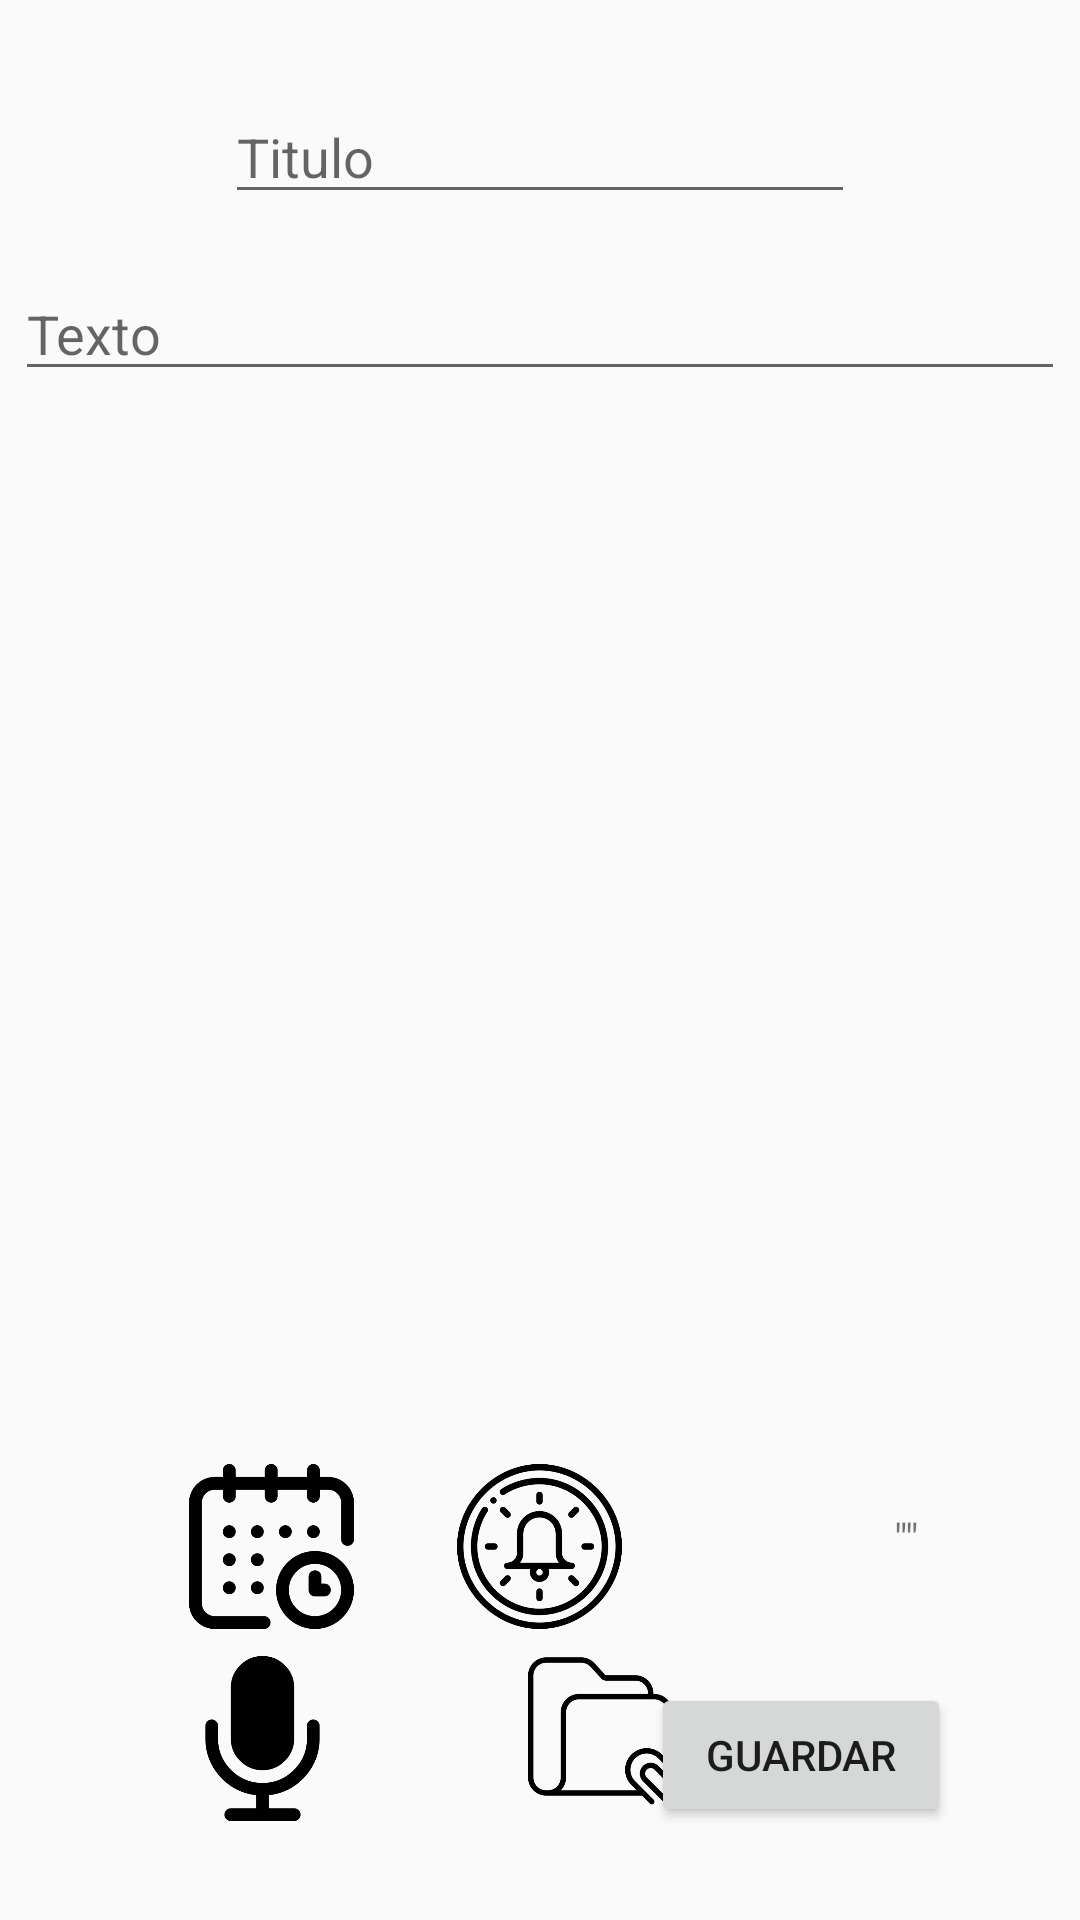

Icon click points for this 1080w x 1920h phone screenshot, format (x=x, y=y):
alarma: (x=539, y=1546)
calendario: (x=271, y=1546)
carpeta: (x=610, y=1735)
forma de microfono negro: (x=262, y=1738)
